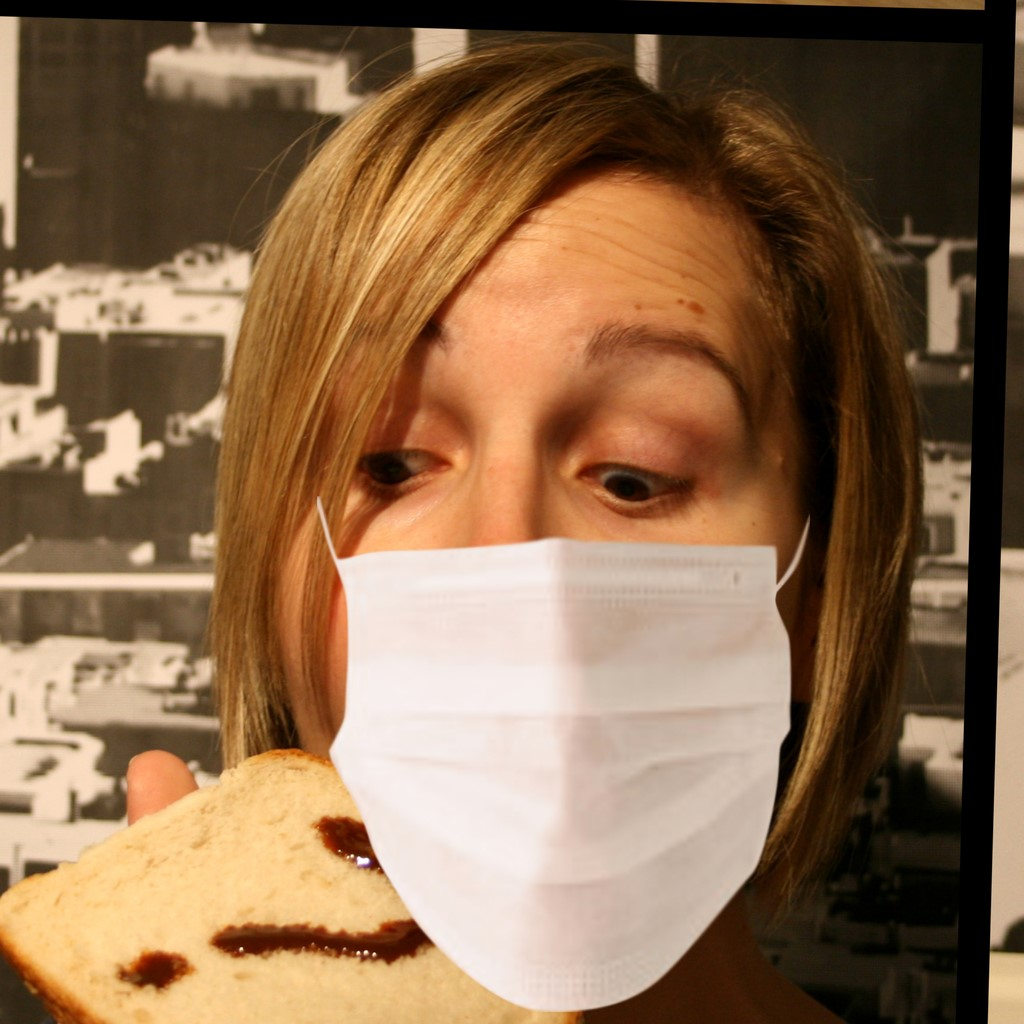con_mascara: (276, 130, 828, 974)
